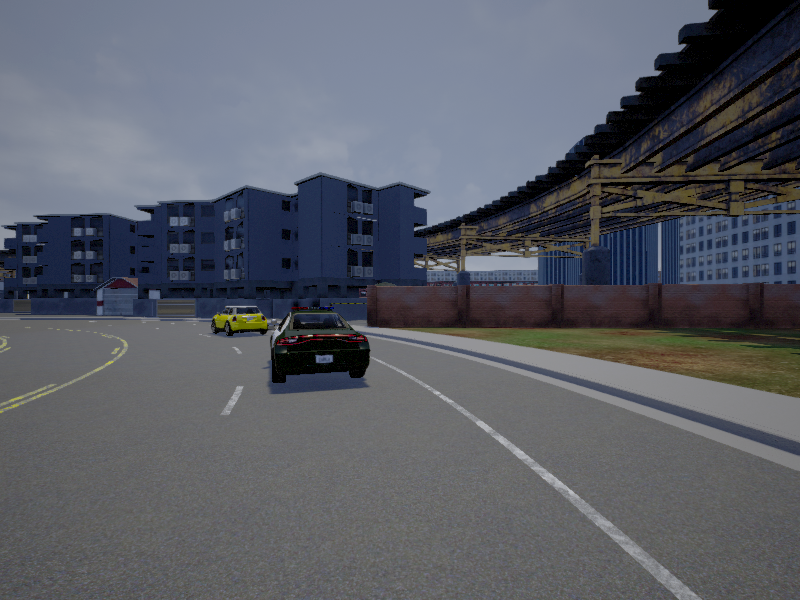Benign: (272, 306, 370, 384), (210, 305, 269, 337)
